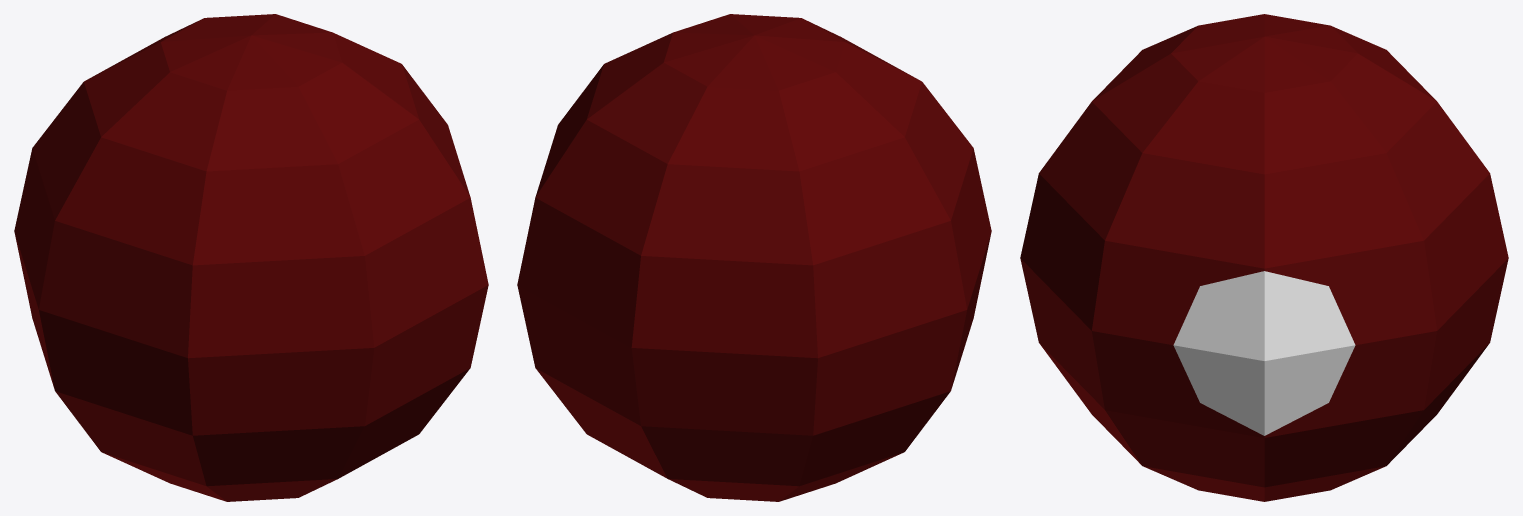
The model's file is vinho1.obj.
3 renders of one model, left to right at view 1: azimuth 30°, elevation 25°; view 2: azimuth 150°, elevation 25°; view 3: azimuth 270°, elevation 25°, orthographic.
Parts seen in each view (by area): view 1: all_balls.004; view 2: all_balls.004; view 3: all_balls.004.
Part boxes in pixels (x1=…): all_balls.004: x1=14, y1=14, x2=488, y2=501; all_balls.004: x1=517, y1=14, x2=991, y2=501; all_balls.004: x1=1020, y1=14, x2=1508, y2=501.
Size of the model in its own units: 0.3459 by 0.3459 by 0.3459.
